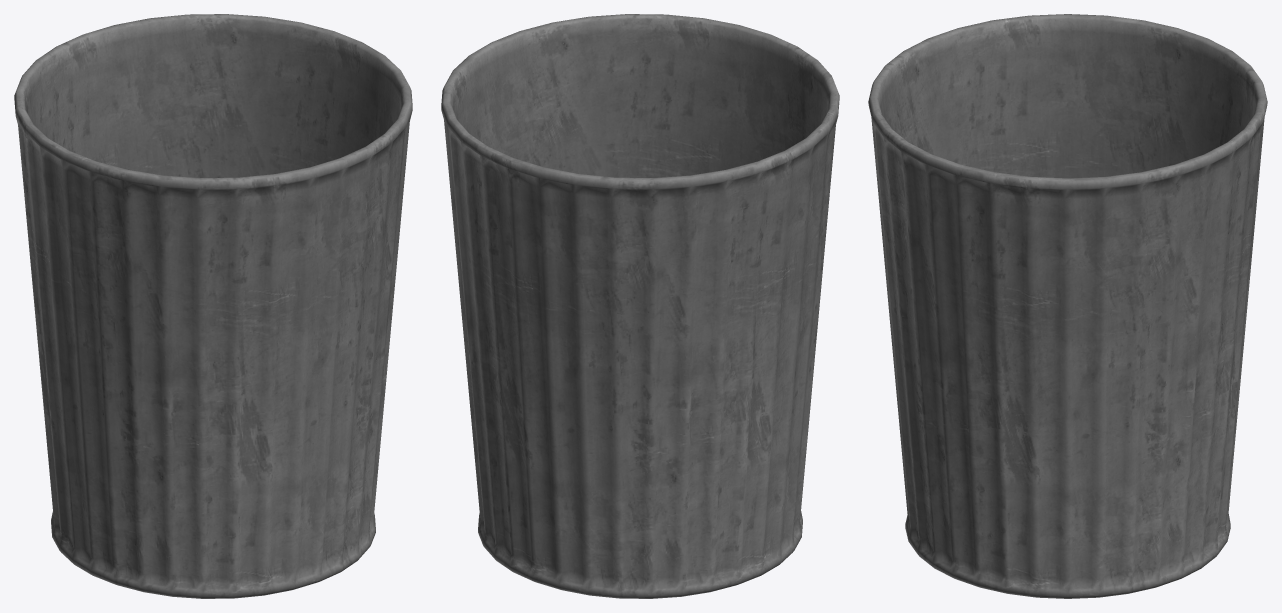
File: TrashCan.fbx
3 renders of one model, left to right at view 1: azimuth 30°, elevation 25°; view 2: azimuth 150°, elevation 25°; view 3: azimuth 270°, elevation 25°, orthographic.
Parts seen in each view (by area): view 1: trash can; view 2: trash can; view 3: trash can.
Part boxes in pixels (bbox=[...]): trash can: bbox=[14, 14, 412, 598]; trash can: bbox=[441, 14, 839, 598]; trash can: bbox=[868, 14, 1267, 598].
Size of the model in its own units: 193 by 233 by 193.
